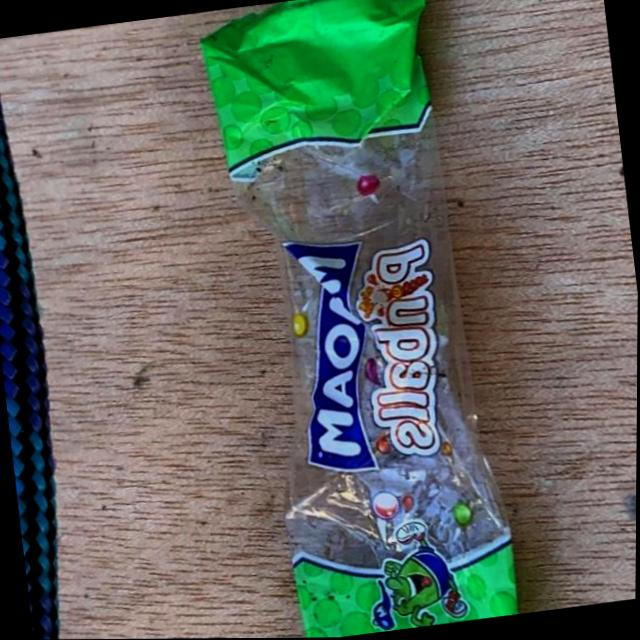Plastic: (187, 0, 531, 639)
